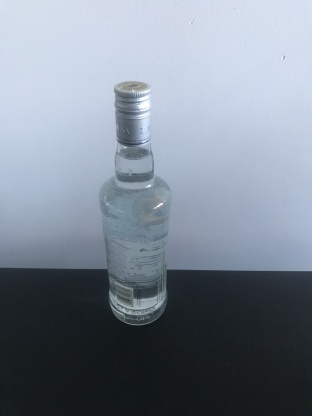nakretka: (112, 79, 152, 149)
